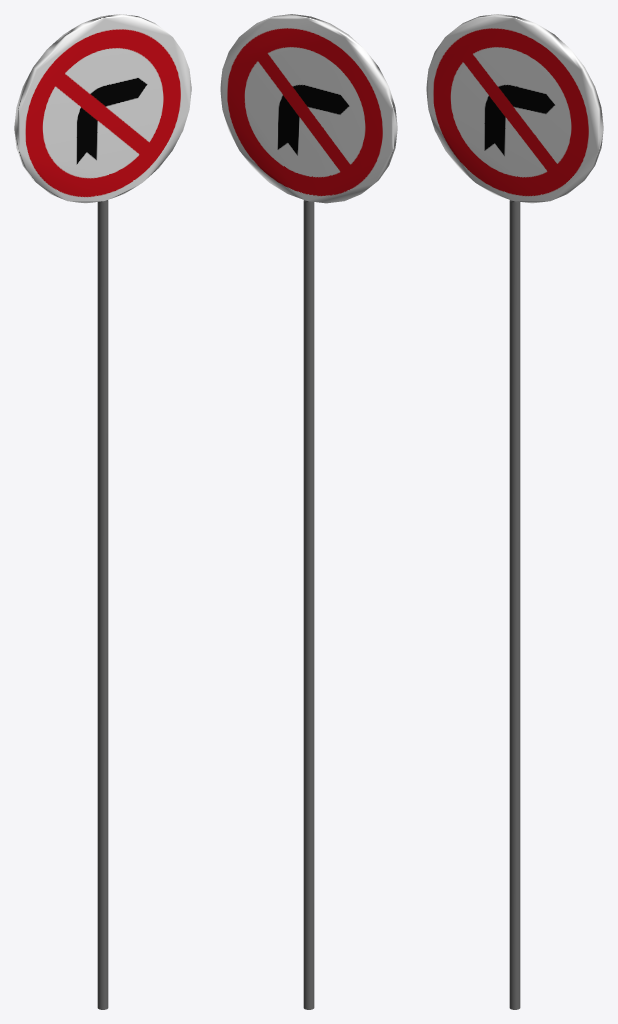
File: tabela.dae
3 renders of one model, left to right at view 1: azimuth 30°, elevation 25°; view 2: azimuth 150°, elevation 25°; view 3: azimuth 330°, elevation 25°, orthographic.
Visible parts, largest first — view 1: Yuvarlak İşaret; view 2: Yuvarlak İşaret; view 3: Yuvarlak İşaret.
Boxes of the visible parts, left/top/right/bottom form: Yuvarlak İşaret: left=14, top=14, right=191, bottom=1009; Yuvarlak İşaret: left=220, top=14, right=397, bottom=1009; Yuvarlak İşaret: left=426, top=14, right=603, bottom=1009.
Bounding box in the file's own units: 0.45 × 0.0242 × 2.45.
Materials: 2 (1 with a texture image).
